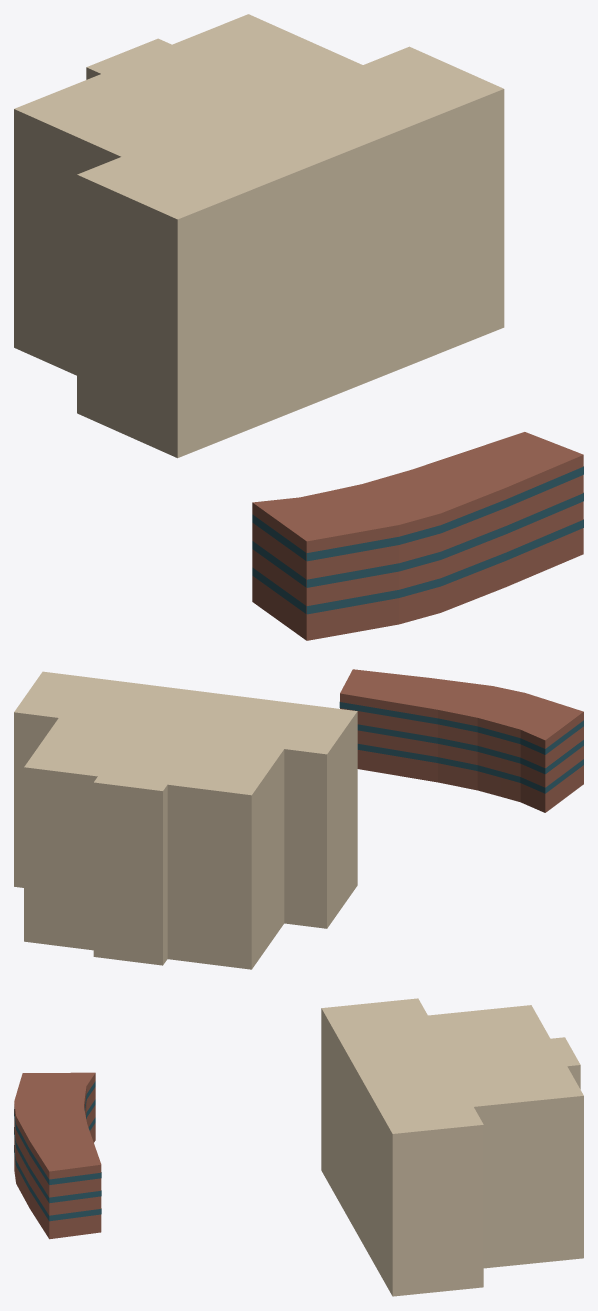
File: city_7_5.glb
3 views of the same model, one above another, from view 1: azimuth 30°, elevation 25°; view 2: azimuth 150°, elevation 25°; view 3: azimuth 270°, elevation 25° (orthographic). The views are drawn at different scales.
Parts seen in each view (by area): view 1: city_7_5; view 2: city_7_5; view 3: city_7_5.
Boxes of the visible parts, bbox=[...] form: city_7_5: bbox=[14, 14, 583, 640]; city_7_5: bbox=[14, 669, 583, 969]; city_7_5: bbox=[14, 998, 583, 1296].
Size of the model in its own units: 74.18 by 36 by 114.
